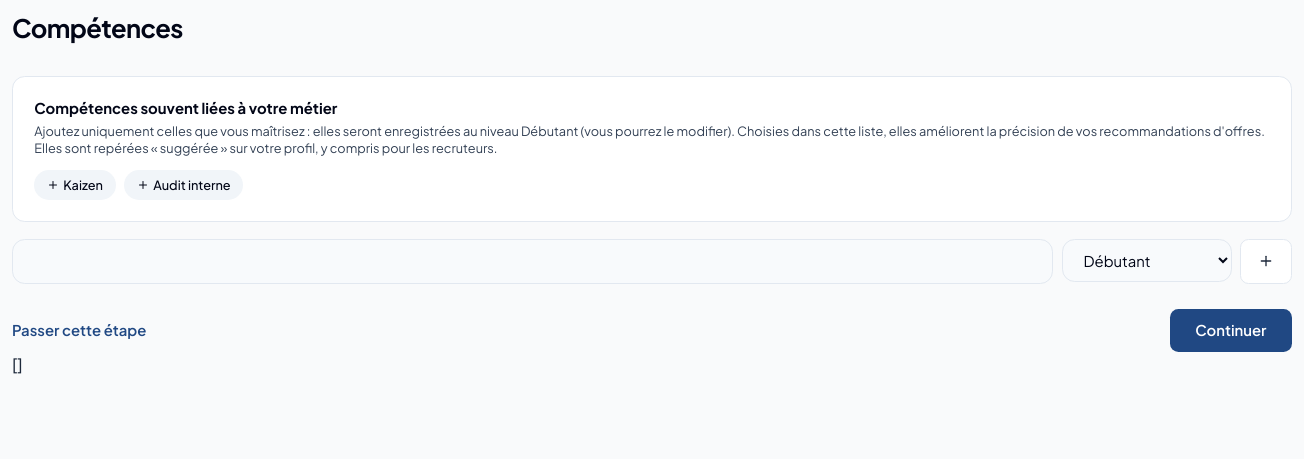
Test case: Assistant d'import : compétences suggérées pour le métier › ajoute la compétence choisie au niveau Débutant, reconnue par le référentiel
Click the button with aria-label "Ajouter Kaizen" at {"x": 75, "y": 185}, box [34,170,116,200]
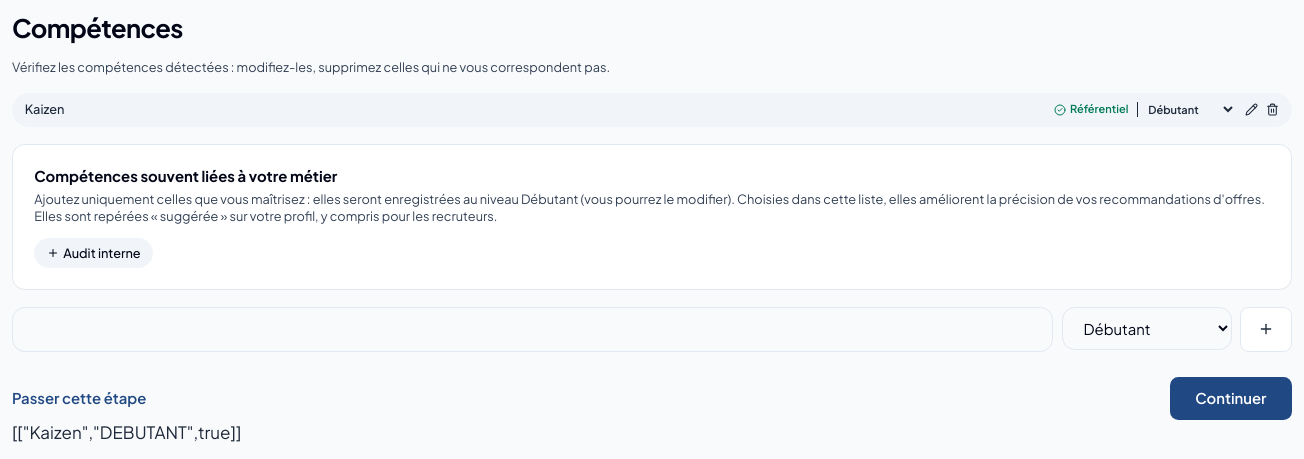
Expected: the button with aria-label "Ajouter Audit interne" is shown, [34,238,154,268]
Now the text with test id "etat" reads "[ [\"Kaizen\",\"DEBUTANT\",true]]", box [12,421,241,443]
